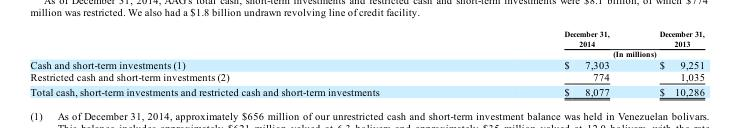table: (29, 29, 703, 96)
table column: (29, 29, 471, 96), (471, 29, 633, 96), (633, 29, 703, 96)
table column header: (29, 29, 703, 58)
table row: (29, 29, 703, 48), (29, 70, 703, 83), (29, 83, 703, 96), (29, 58, 703, 70), (29, 48, 703, 58)
table spanning cell: (471, 48, 703, 58)
